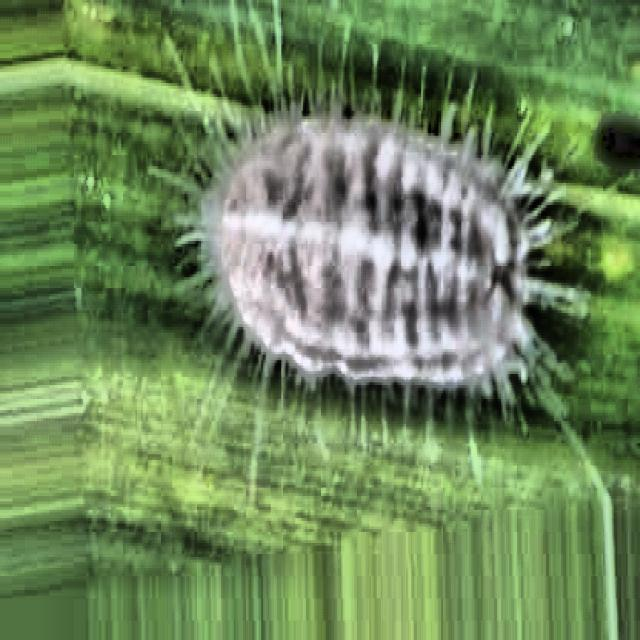Mealy-bug: (168, 44, 593, 444)
